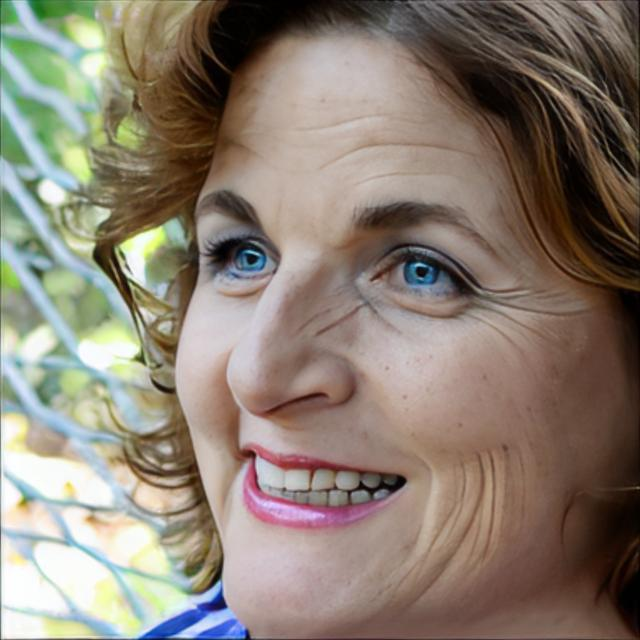happy: (169, 53, 609, 637)
